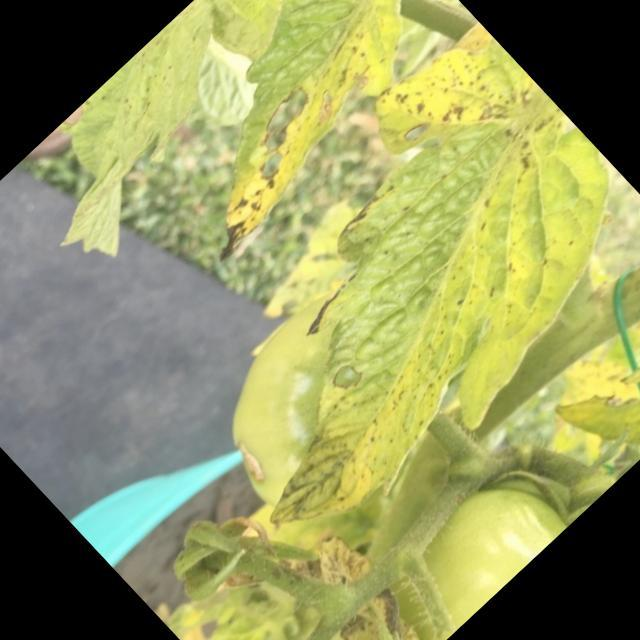Tomato Septoria spot leaf: (109, 13, 640, 575), (128, 0, 458, 263), (0, 0, 302, 284)
